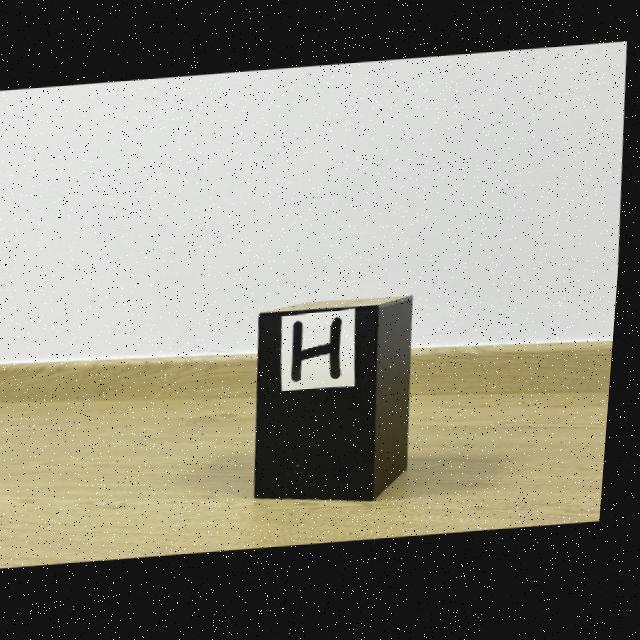H: (297, 321, 347, 385)
